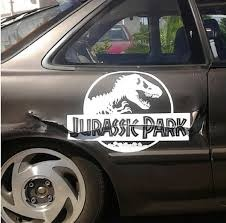Dent: (19, 111, 84, 142), (180, 106, 208, 144)
